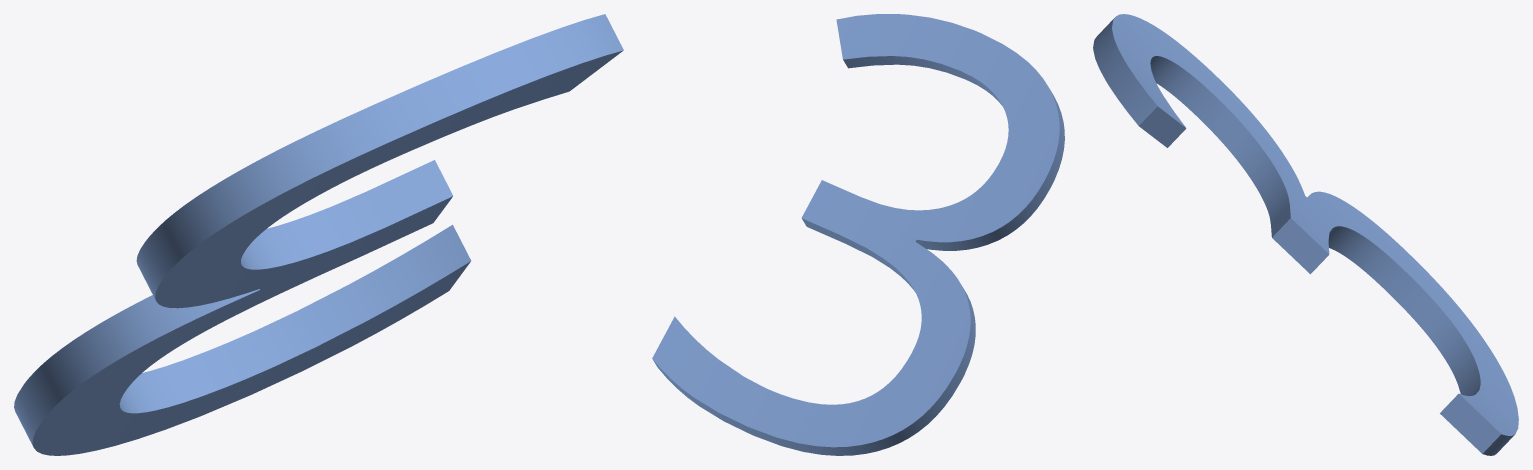
Rendered from Number_3.gltf.
3 views of the same model, side by side, from view 1: azimuth 30°, elevation 25°; view 2: azimuth 150°, elevation 25°; view 3: azimuth 270°, elevation 25° (orthographic). The views are drawn at different scales.
Parts seen in each view (by area): view 1: Sub_5_Cell_2_1_Number_3; view 2: Sub_5_Cell_2_1_Number_3; view 3: Sub_5_Cell_2_1_Number_3.
Boxes of the visible parts, bbox=[...] form: Sub_5_Cell_2_1_Number_3: bbox=[14, 14, 623, 455]; Sub_5_Cell_2_1_Number_3: bbox=[652, 14, 1064, 455]; Sub_5_Cell_2_1_Number_3: bbox=[1093, 14, 1518, 455].
Size of the model in its own units: 0.0179 by 0.0193 by 0.0194.
